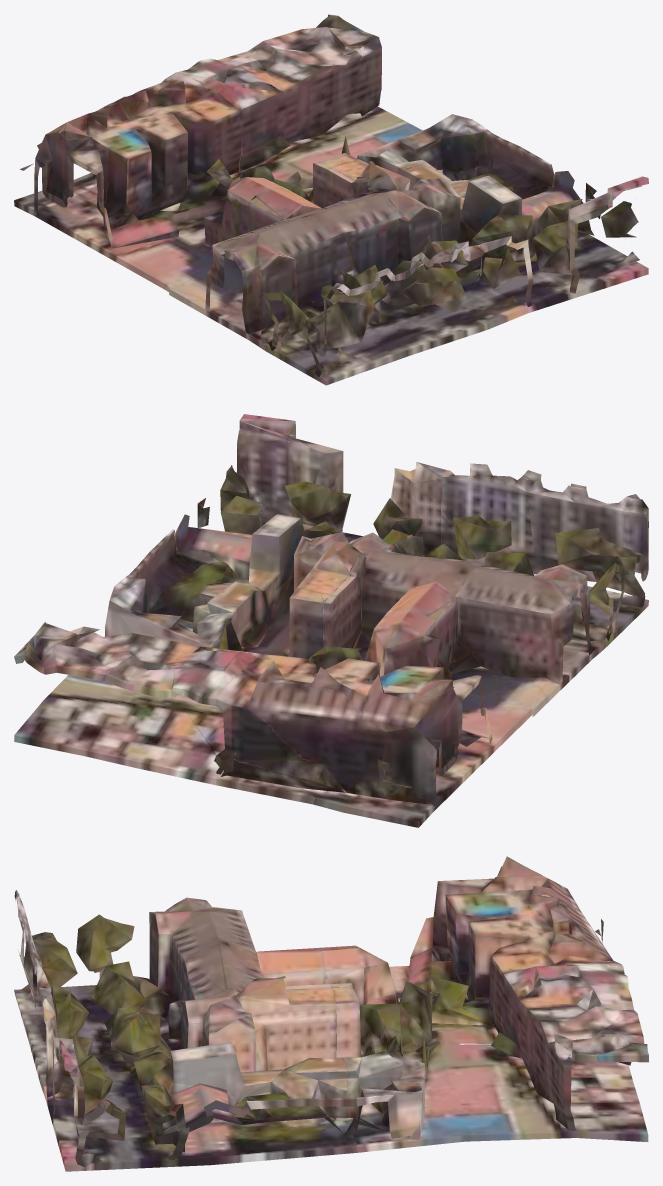
3 renders of one model, top to bottom at view 1: azimuth 30°, elevation 25°; view 2: azimuth 150°, elevation 25°; view 3: azimuth 270°, elevation 25°, orthographic. The views are drawn at different scales.
Parts seen in each view (by area): view 1: Mesh_0; view 2: Mesh_0; view 3: Mesh_0.
Part boxes in pixels (box(x1,y1,x2,y2)): Mesh_0: box(14, 14, 648, 385); Mesh_0: box(14, 414, 648, 827); Mesh_0: box(14, 856, 648, 1171).
Size of the model in its own units: 133 by 35.11 by 165.
1 material, 1 textured.
